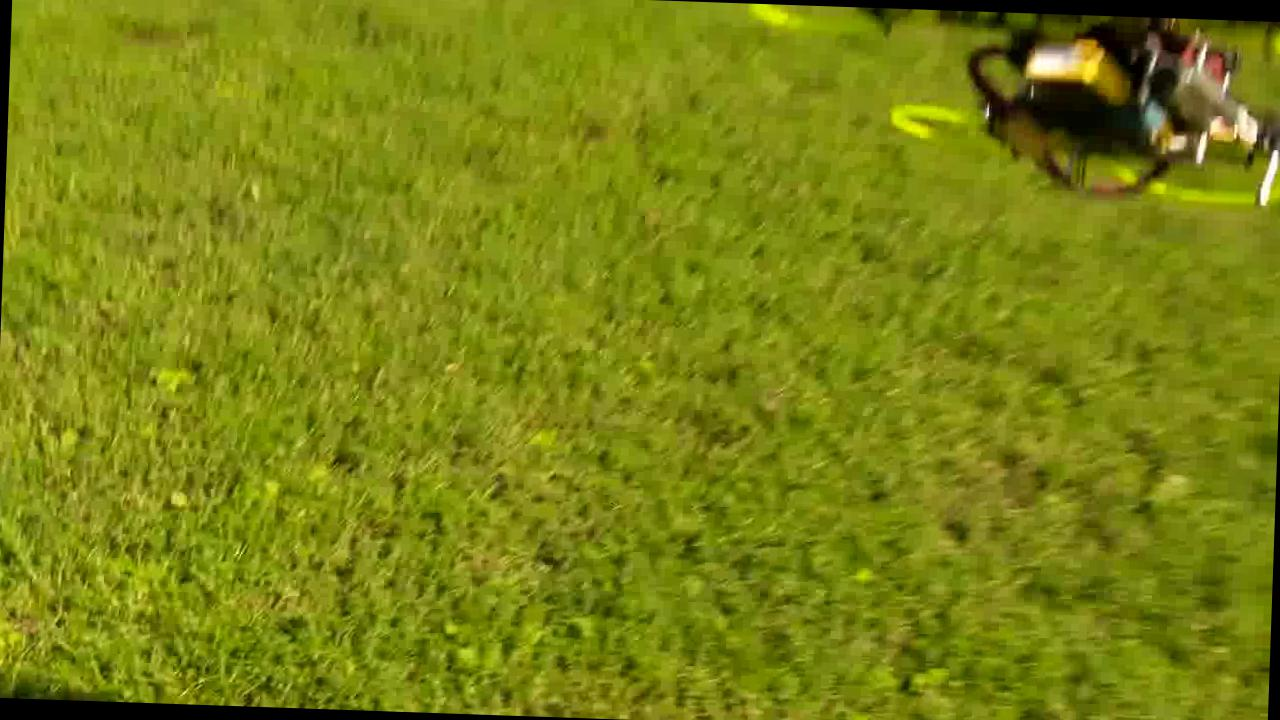drone: (753, 4, 1279, 242)
